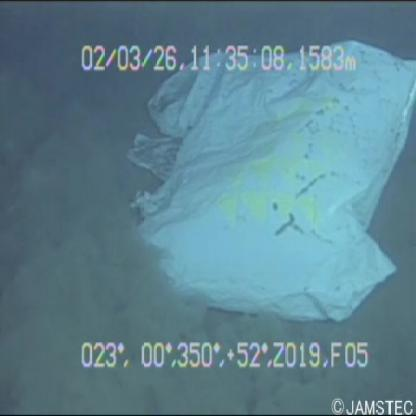Rác: (124, 22, 415, 352)
